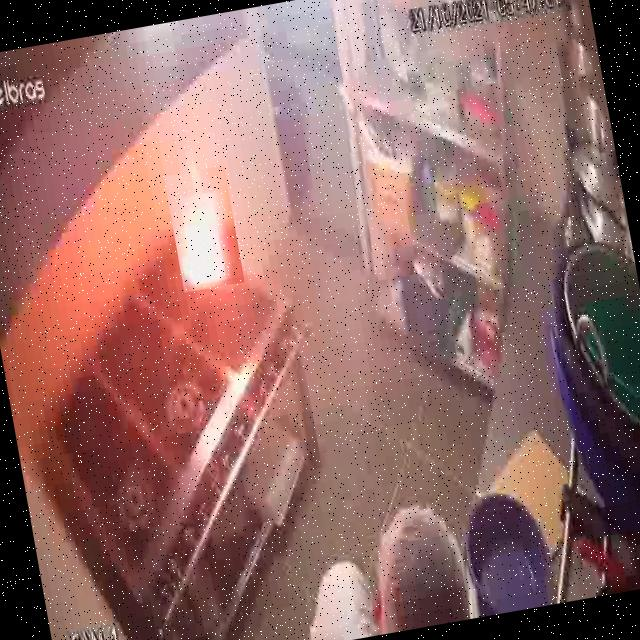fire: (163, 165, 244, 292)
